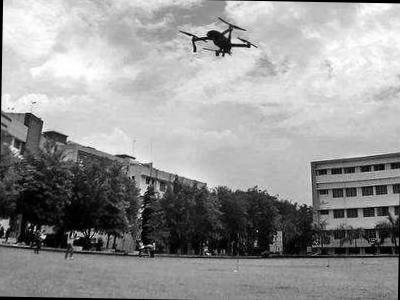drone: (176, 15, 260, 57)
